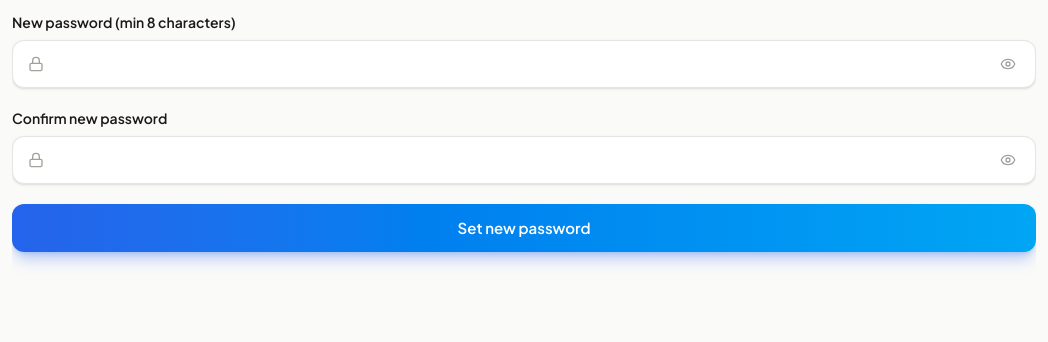
Test case: ResetPasswordForm › blocks mismatched passwords
This screenshot has width=1048, height=342.
Type "password1" into the password field labelled "New password (min 8 characters)" at [524, 64], box [12,40,1036,88]
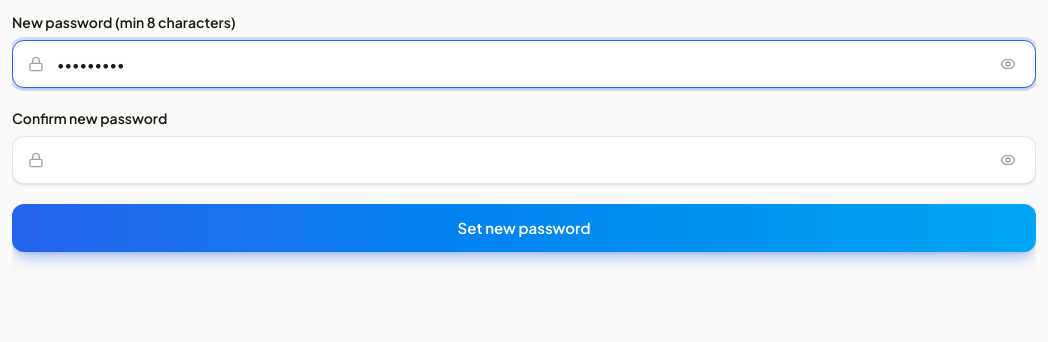
Type "password2" into the password field labelled "Confirm new password" at [524, 160], box [12,136,1036,184]
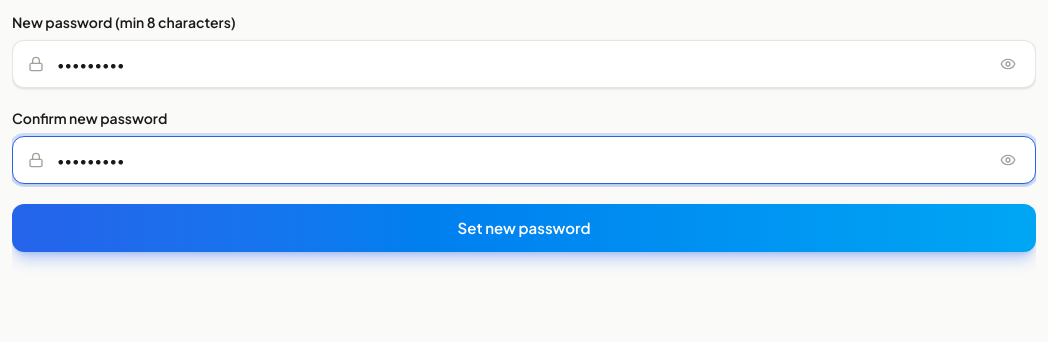
Click the button "Set new password" at [524, 228], box [12,204,1036,252]
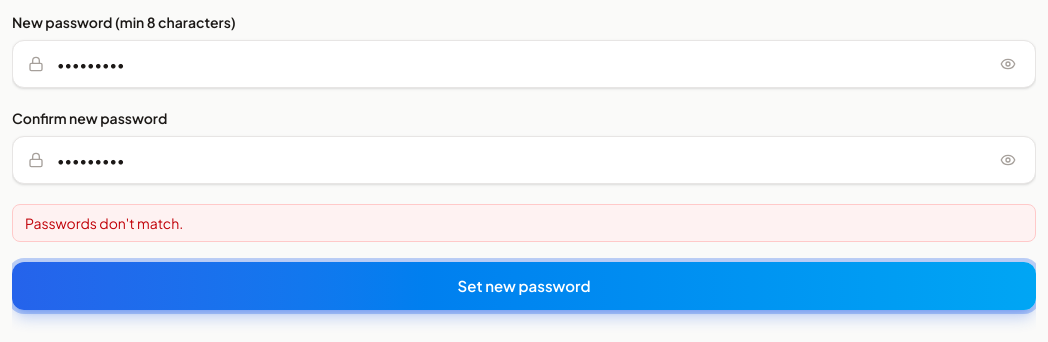
Expected: the message reads "Passwords don't match.", [25,214,183,232]
